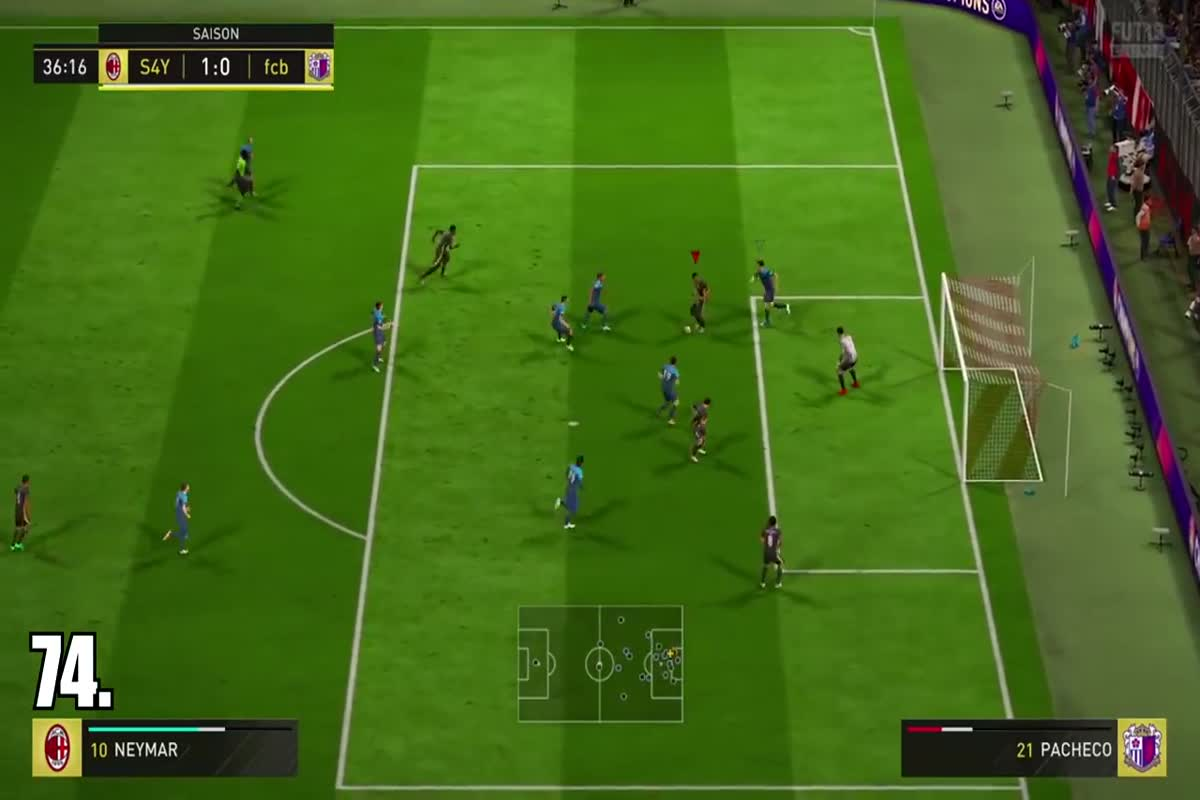ball: (678, 321, 695, 340)
